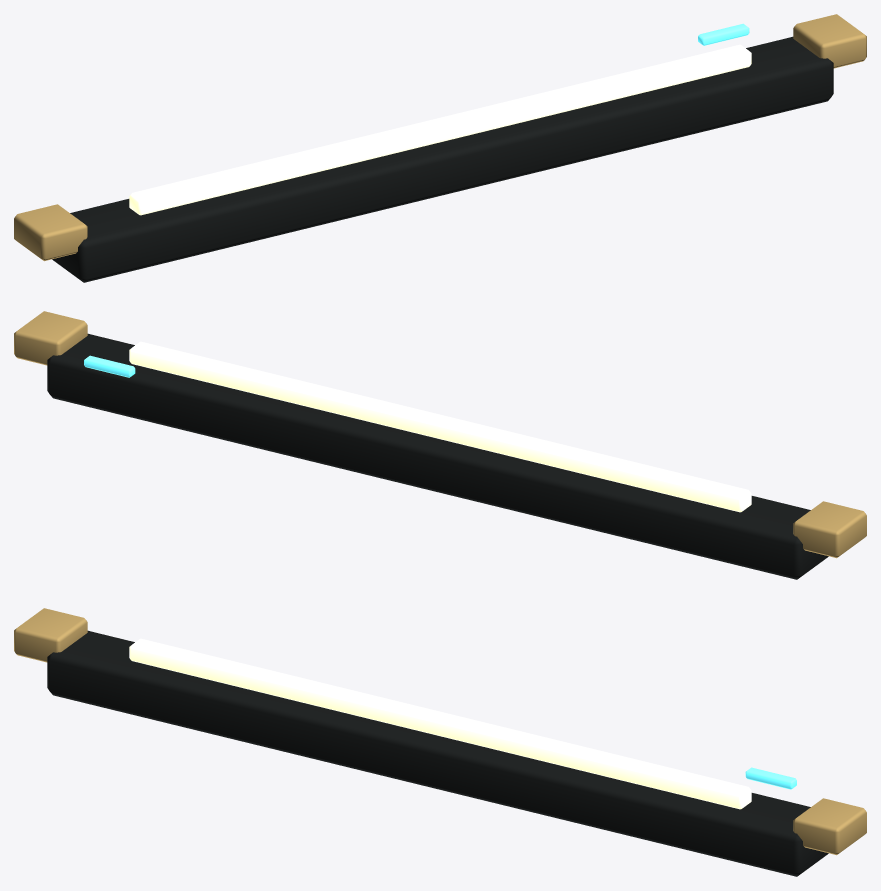
File: hp_room_wall_wash_light_museum.glb
3 renders of one model, top to bottom at view 1: azimuth 30°, elevation 25°; view 2: azimuth 150°, elevation 25°; view 3: azimuth 330°, elevation 25°, orthographic.
Parts seen in each view (by area): view 1: museum_wall_wash_black_back_rail, museum_wall_wash_warm_linear_lens, museum_wall_wash_left_brass_endcap, museum_wall_wash_right_brass_endcap, museum_wall_wash_cyan_service_dot; view 2: museum_wall_wash_black_back_rail, museum_wall_wash_warm_linear_lens, museum_wall_wash_left_brass_endcap, museum_wall_wash_right_brass_endcap, museum_wall_wash_cyan_service_dot; view 3: museum_wall_wash_black_back_rail, museum_wall_wash_warm_linear_lens, museum_wall_wash_right_brass_endcap, museum_wall_wash_left_brass_endcap, museum_wall_wash_cyan_service_dot.
Part boxes in pixels (left/top/right/bottom): museum_wall_wash_black_back_rail: left=52, top=36, right=833, bottom=282; museum_wall_wash_warm_linear_lens: left=129, top=44, right=751, bottom=215; museum_wall_wash_left_brass_endcap: left=14, top=204, right=87, bottom=261; museum_wall_wash_right_brass_endcap: left=793, top=14, right=866, bottom=68; museum_wall_wash_cyan_service_dot: left=698, top=23, right=749, bottom=45; museum_wall_wash_black_back_rail: left=47, top=333, right=828, bottom=579; museum_wall_wash_warm_linear_lens: left=129, top=341, right=751, bottom=512; museum_wall_wash_left_brass_endcap: left=793, top=501, right=866, bottom=558; museum_wall_wash_right_brass_endcap: left=14, top=311, right=87, bottom=365; museum_wall_wash_cyan_service_dot: left=84, top=355, right=135, bottom=377; museum_wall_wash_black_back_rail: left=47, top=630, right=828, bottom=876; museum_wall_wash_warm_linear_lens: left=129, top=638, right=751, bottom=809; museum_wall_wash_right_brass_endcap: left=793, top=798, right=866, bottom=855; museum_wall_wash_left_brass_endcap: left=14, top=608, right=87, bottom=662; museum_wall_wash_cyan_service_dot: left=745, top=767, right=796, bottom=789.
Bounding box in the file's own units: 1.4 × 0.096 × 0.134.
